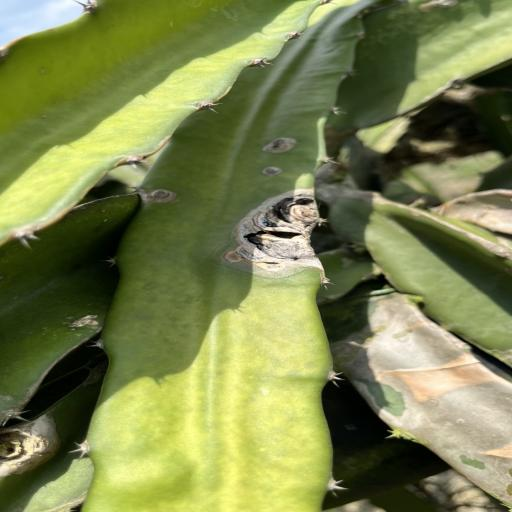stemcanker: (438, 408, 471, 432), (28, 67, 66, 82), (96, 207, 118, 231), (253, 384, 277, 402), (260, 164, 288, 178), (0, 392, 23, 406), (38, 108, 54, 124), (98, 208, 109, 214), (103, 217, 111, 224)
